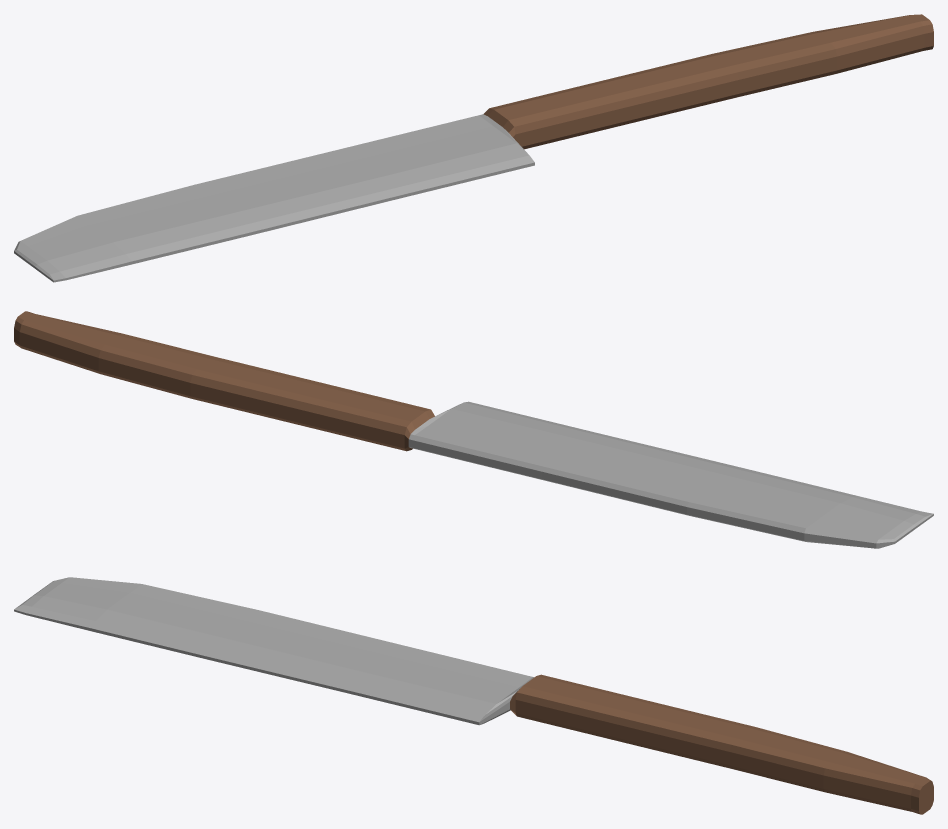
File: CookingKnife.fbx
The picture shows the model from 3 angles, top to bottom: view 1: azimuth 30°, elevation 25°; view 2: azimuth 150°, elevation 25°; view 3: azimuth 330°, elevation 25°; orthographic projection. The views are drawn at different scales.
Parts seen in each view (by area): view 1: cookingKnife_geo; view 2: cookingKnife_geo; view 3: cookingKnife_geo.
Boxes of the visible parts, x1=… form: cookingKnife_geo: x1=14, y1=14, x2=933, y2=282; cookingKnife_geo: x1=14, y1=311, x2=933, y2=548; cookingKnife_geo: x1=14, y1=577, x2=933, y2=814.
Size of the model in its own units: 188 by 5.82 by 21.13.
